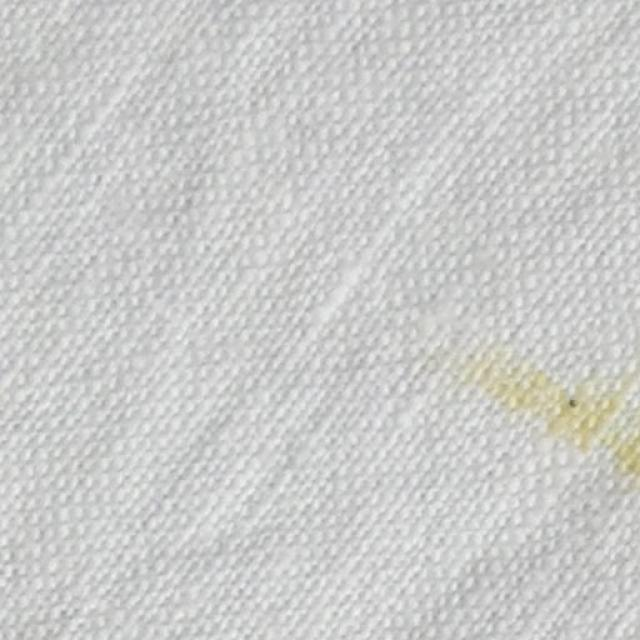Stain: (458, 358, 639, 474)
